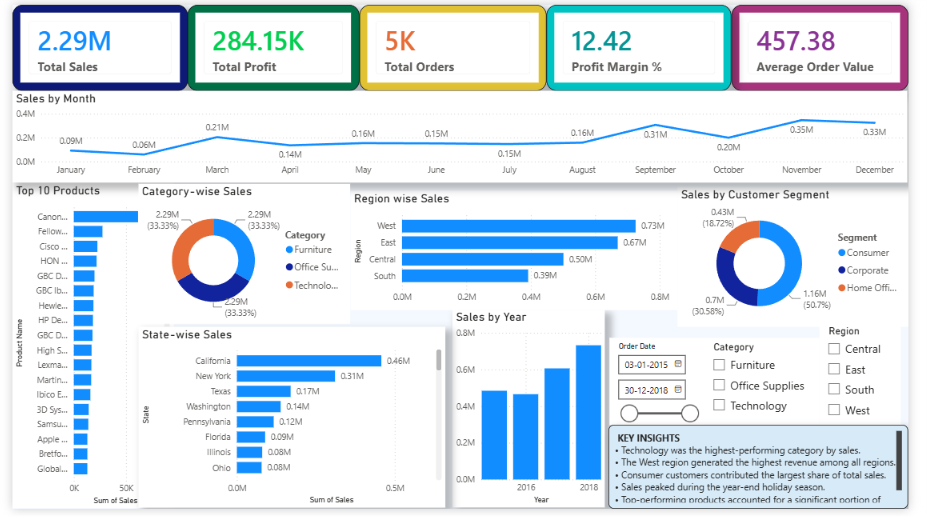

The page's visual inventory and layout, read from the dashboard file:
{"tool":"powerbi","page":{"name":"Page 1","canvas":[1280,720],"ordinal":0},"visuals":[{"type":"cardVisual","fields":{"Data":["Orders.Total Sales"]},"box":[0,0,250,122.9],"z":0},{"type":"cardVisual","fields":{"Data":["Orders.Total Profit"]},"box":[250,0,245.7,122.9],"z":1000},{"type":"cardVisual","fields":{"Data":["Orders.Total Orders"]},"box":[495.7,0,267.1,122.9],"z":2000},{"type":"cardVisual","fields":{"Data":["Orders.Average Order Value"]},"box":[1027.1,0,252.9,122.9],"z":3000},{"type":"cardVisual","fields":{"Data":["Orders.Profit Margin %"]},"box":[762.9,0,264.3,122.9],"z":4000},{"type":"lineClusteredColumnComboChart","title":"Sales by Year","fields":{"Y":["Sum(Orders1.Sales)"],"Category":["Orders1.Order Date.Variation.Date Hierarchy.Year","Orders1.Order Date.Variation.Date Hierarchy.Quarter","Orders1.Order Date.Variation.Date Hierarchy.Month","Orders1.Order Date.Variation.Date Hierarchy.Day"]},"box":[628.8,436.2,217.5,282.5],"z":5000},{"type":"clusteredBarChart","title":"Top 10 Products","fields":{"Category":["Orders1.Product Name"],"Y":["Sum(Orders1.Sales)"]},"box":[0,253.8,230,465],"z":6000},{"type":"clusteredBarChart","title":"Region wise Sales","fields":{"Category":["Orders1.Region"],"Y":["Sum(Orders1.Sales)"]},"box":[482.5,266.2,467.5,170],"z":7000},{"type":"donutChart","title":"Sales by Customer Segment","fields":{"Category":["Orders1.Segment"],"Y":["Sum(Orders1.Sales)"]},"box":[950,260,330,200],"z":8000},{"type":"clusteredBarChart","title":"State-wise Sales","fields":{"Category":["Orders1.State"],"Y":["Sum(Orders1.Sales)"]},"box":[180,460,438.3,258.3],"z":9000},{"type":"slicer","fields":{"Values":["Orders1.Order Date"]},"box":[852.5,476.2,136.2,123.8],"z":10000},{"type":"slicer","fields":{"Values":["Orders1.Region"]},"box":[1152.9,452.9,115.7,147.1],"z":11000},{"type":"slicer","title":"Category wise Sales","fields":{"Values":["Orders1.Category"]},"box":[988.6,475.7,164.3,124.3],"z":12000},{"type":"lineChart","title":"Sales by Month","fields":{"Category":["Orders1.Order Date.Variation.Date Hierarchy.Month"],"Y":["Sum(Orders1.Sales)"]},"box":[0,122.9,1278.6,131.4],"z":13000},{"type":"donutChart","title":"Category-wise Sales","fields":{"Category":["Orders.Category"],"Y":["Sum(Orders1.Sales)"]},"box":[180,256.2,302.5,200],"z":14000},{"type":"textbox","box":[852,600,428,120],"z":15000}]}

Visuals, with their boxes in screenshot pixels (x1, y1, x2, y2), scaled from the page's 1280x720 canvas onto the 927x517 screenshot:
cardVisual - Orders.Total Sales: <bbox>0, 0, 181, 88</bbox>
cardVisual - Orders.Total Profit: <bbox>181, 0, 359, 88</bbox>
cardVisual - Orders.Total Orders: <bbox>359, 0, 552, 88</bbox>
cardVisual - Orders.Average Order Value: <bbox>744, 0, 926, 88</bbox>
cardVisual - Orders.Profit Margin %: <bbox>553, 0, 744, 88</bbox>
"Sales by Year" lineClusteredColumnComboChart: <bbox>455, 313, 613, 516</bbox>
"Top 10 Products" clusteredBarChart: <bbox>0, 182, 167, 516</bbox>
"Region wise Sales" clusteredBarChart: <bbox>349, 191, 688, 313</bbox>
"Sales by Customer Segment" donutChart: <bbox>688, 187, 926, 330</bbox>
"State-wise Sales" clusteredBarChart: <bbox>130, 330, 448, 516</bbox>
slicer - Orders1.Order Date: <bbox>617, 342, 716, 431</bbox>
slicer - Orders1.Region: <bbox>835, 325, 919, 431</bbox>
"Category wise Sales" slicer: <bbox>716, 342, 835, 431</bbox>
"Sales by Month" lineChart: <bbox>0, 88, 926, 183</bbox>
"Category-wise Sales" donutChart: <bbox>130, 184, 349, 328</bbox>
textbox: <bbox>617, 431, 926, 516</bbox>
